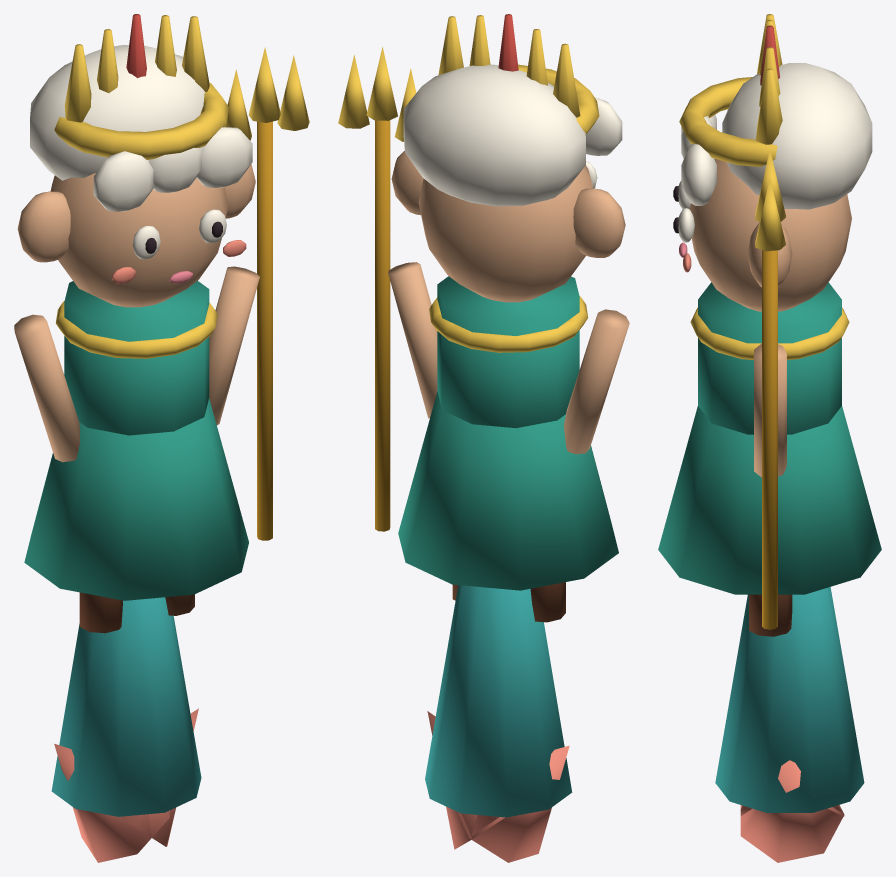
File: macchanu.glb
3 views of the same model, side by side, from view 1: azimuth 30°, elevation 25°; view 2: azimuth 150°, elevation 25°; view 3: azimuth 270°, elevation 25° (orthographic). The views are drawn at different scales.
Visible parts, largest first — view 1: macchanu_robe, macchanu_tail, macchanu_torso, macchanu_head, macchanu_hair_back, macchanu_trident_staff, macchanu_crown_band, macchanu_arm_-1, macchanu_arm_1, macchanu_fin_-1, macchanu_belt, macchanu_ear_-1 (+16 smaller); view 2: macchanu_robe, macchanu_tail, macchanu_hair_back, macchanu_torso, macchanu_head, macchanu_trident_staff, macchanu_arm_-1, macchanu_arm_1, macchanu_fin_-1, macchanu_belt, macchanu_ear_-1, macchanu_fringe_0 (+11 smaller); view 3: macchanu_robe, macchanu_tail, macchanu_hair_back, macchanu_torso, macchanu_head, macchanu_trident_staff, macchanu_fin_1, macchanu_crown_band, macchanu_belt, macchanu_arm_1, macchanu_fringe_2, macchanu_crown_spire_2 (+5 smaller).
Part boxes in pixels (<box>): macchanu_robe: <box>24,398,248,600</box>; macchanu_tail: <box>51,597,201,816</box>; macchanu_torso: <box>64,281,209,435</box>; macchanu_head: <box>50,173,228,307</box>; macchanu_hair_back: <box>30,45,205,180</box>; macchanu_trident_staff: <box>257,121,272,540</box>; macchanu_crown_band: <box>54,82,228,159</box>; macchanu_arm_-1: <box>14,314,79,462</box>; macchanu_arm_1: <box>209,266,259,425</box>; macchanu_fin_-1: <box>54,743,169,862</box>; macchanu_belt: <box>56,301,217,358</box>; macchanu_ear_-1: <box>17,191,70,262</box>; macchanu_robe: <box>398,391,618,590</box>; macchanu_tail: <box>425,585,572,817</box>; macchanu_hair_back: <box>403,64,585,206</box>; macchanu_torso: <box>437,276,579,428</box>; macchanu_head: <box>418,165,592,302</box>; macchanu_trident_staff: <box>375,120,390,531</box>; macchanu_arm_-1: <box>564,309,629,454</box>; macchanu_arm_1: <box>388,262,437,418</box>; macchanu_fin_-1: <box>457,745,569,862</box>; macchanu_belt: <box>429,296,588,352</box>; macchanu_ear_-1: <box>573,188,625,257</box>; macchanu_fringe_0: <box>585,97,622,155</box>; macchanu_robe: <box>658,406,881,594</box>; macchanu_tail: <box>715,587,864,812</box>; macchanu_hair_back: <box>722,63,872,209</box>; macchanu_torso: <box>698,282,841,434</box>; macchanu_head: <box>689,159,851,311</box>; macchanu_trident_staff: <box>762,250,777,629</box>; macchanu_fin_1: <box>740,760,844,862</box>; macchanu_crown_band: <box>679,77,777,166</box>; macchanu_belt: <box>690,307,849,360</box>; macchanu_arm_1: <box>754,343,786,477</box>; macchanu_fringe_2: <box>681,143,716,205</box>; macchanu_crown_spire_2: <box>755,68,782,144</box>.
Bounding box in the file's own units: 1.32 × 3.64 × 0.9.
